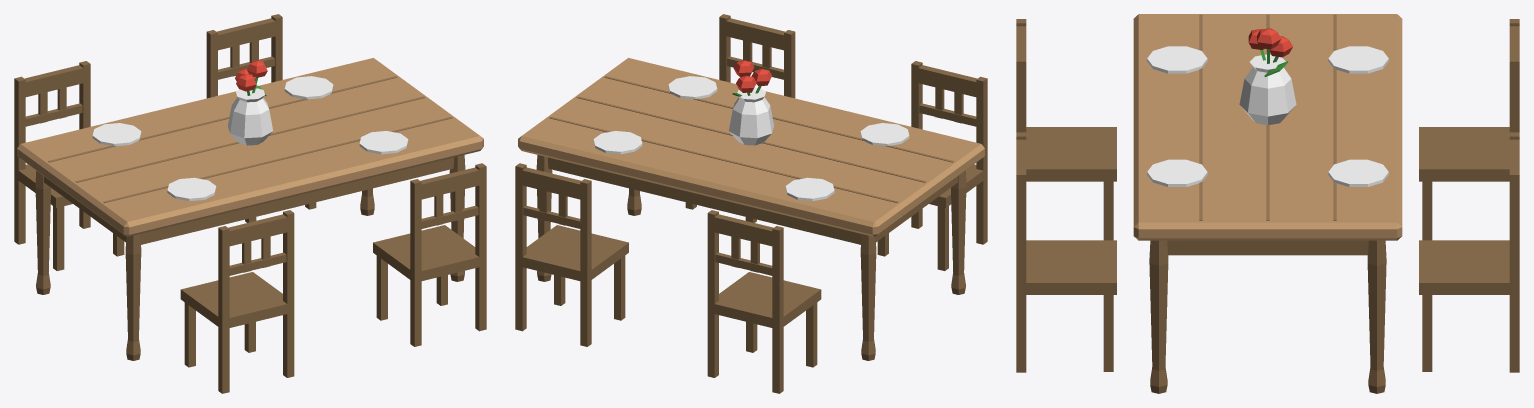
Rendered from diningSet.glb.
3 views of the same model, side by side, from view 1: azimuth 30°, elevation 25°; view 2: azimuth 150°, elevation 25°; view 3: azimuth 270°, elevation 25° (orthographic). The views are drawn at different scales.
Visible parts, largest first — view 1: diningSet-m; view 2: diningSet-m; view 3: diningSet-m.
Part boxes in pixels (x1=…): diningSet-m: x1=14, y1=14, x2=486, y2=393; diningSet-m: x1=515, y1=14, x2=987, y2=393; diningSet-m: x1=1016, y1=14, x2=1519, y2=393.
Bounding box in the file's own units: 3 × 1.78 × 3.
